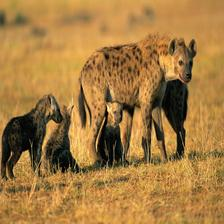hyena: (75, 30, 206, 171), (0, 83, 65, 181), (100, 99, 136, 159)
